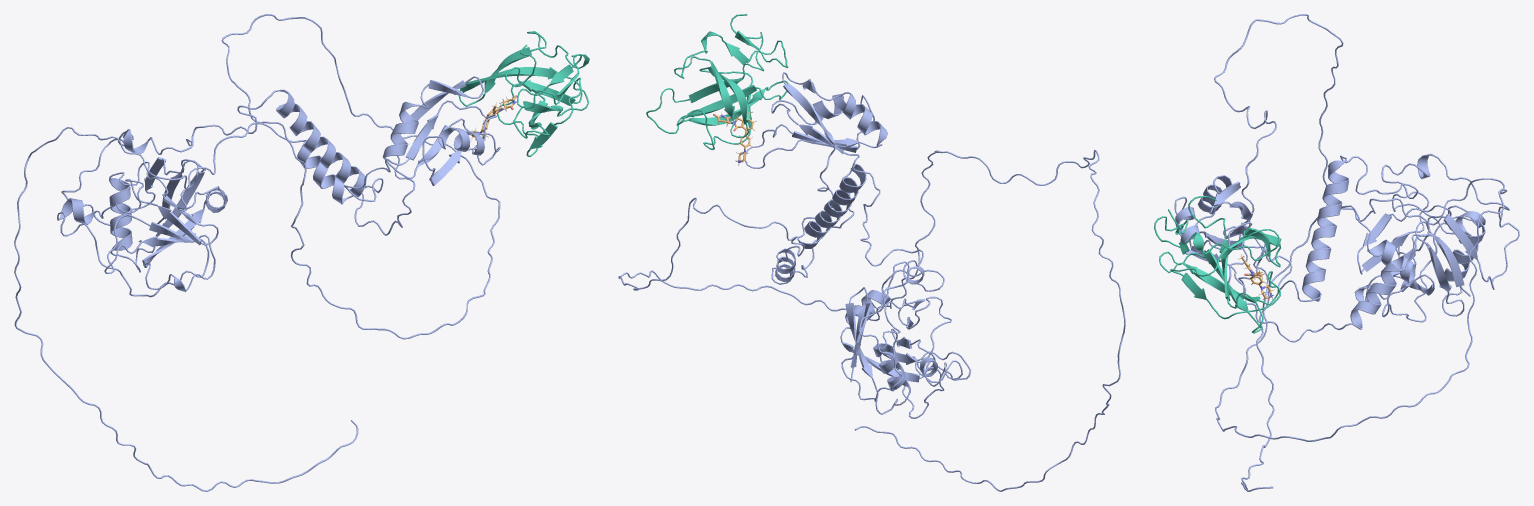
The picture shows the model from 3 angles, left to right: view 1: azimuth 30°, elevation 25°; view 2: azimuth 150°, elevation 25°; view 3: azimuth 270°, elevation 25°; orthographic projection. The views are drawn at different scales.
Parts seen in each view (by area): view 1: node-geom102, node-geom103; view 2: node-geom102, node-geom103; view 3: node-geom102, node-geom103.
Boxes of the visible parts, bbox=[...] form: node-geom102: bbox=[57, 31, 589, 297]; node-geom103: bbox=[14, 14, 500, 491]; node-geom102: bbox=[646, 14, 971, 418]; node-geom103: bbox=[618, 72, 1125, 491]; node-geom102: bbox=[1154, 153, 1519, 333]; node-geom103: bbox=[1174, 14, 1507, 491].
Bounding box in the file's own units: 144 × 101 × 84.98.
